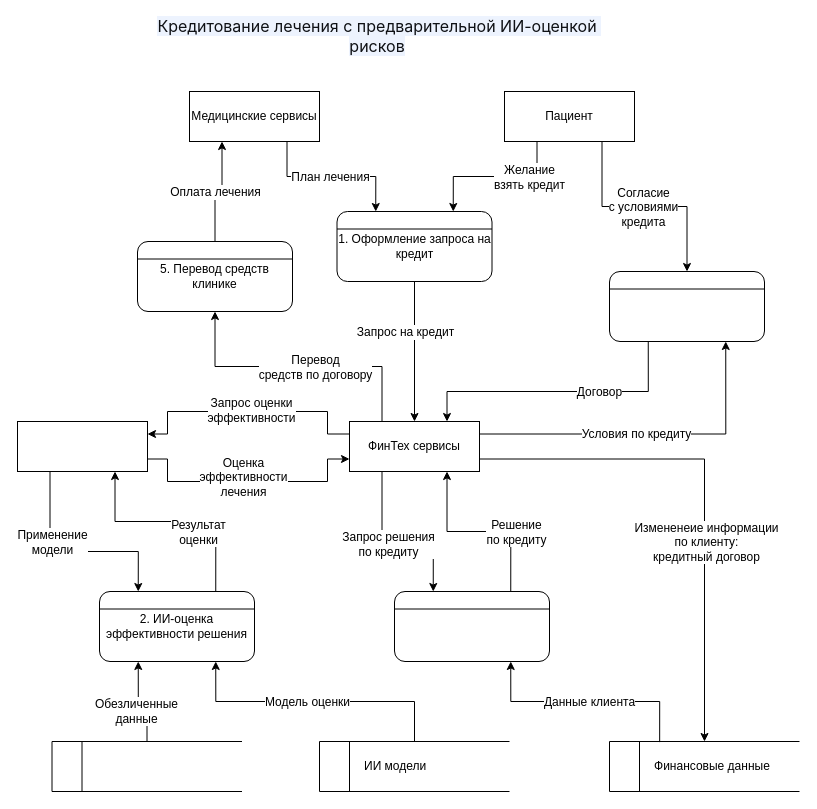
The diagram is 817 pixels wide and 809 high, and some of its shapes have lost their labels. Each missing label, with the box of its shape:
3. Принятие решение о кредите: (394, 590, 550, 662)
4. Заключение договора: (608, 270, 764, 342)
ИИ сервисы: (16, 420, 148, 472)
Медицинские данные: (51, 740, 242, 792)
